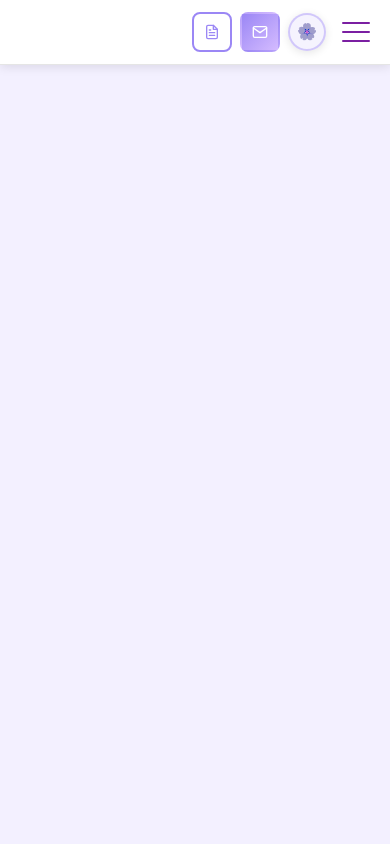
Test: Navigation - Mobile Hamburger Menu › Mobile Menu Overlay › should render mobile menu with all menu items
Click the button named "Open menu": (356, 32) [334,10,378,54]
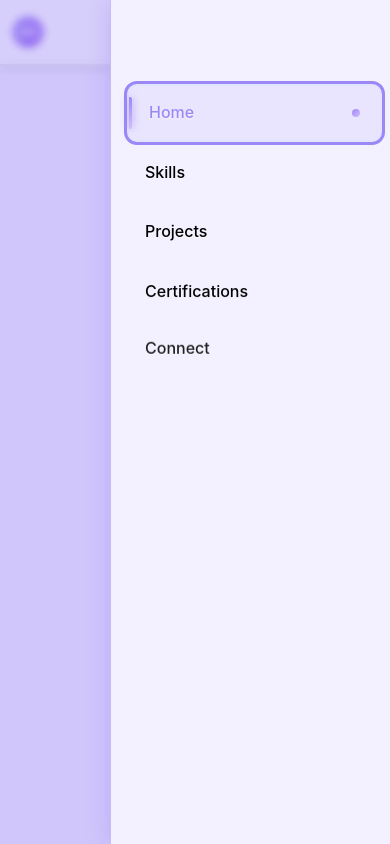
Expected: the element with id "mobile-menu" is shown
